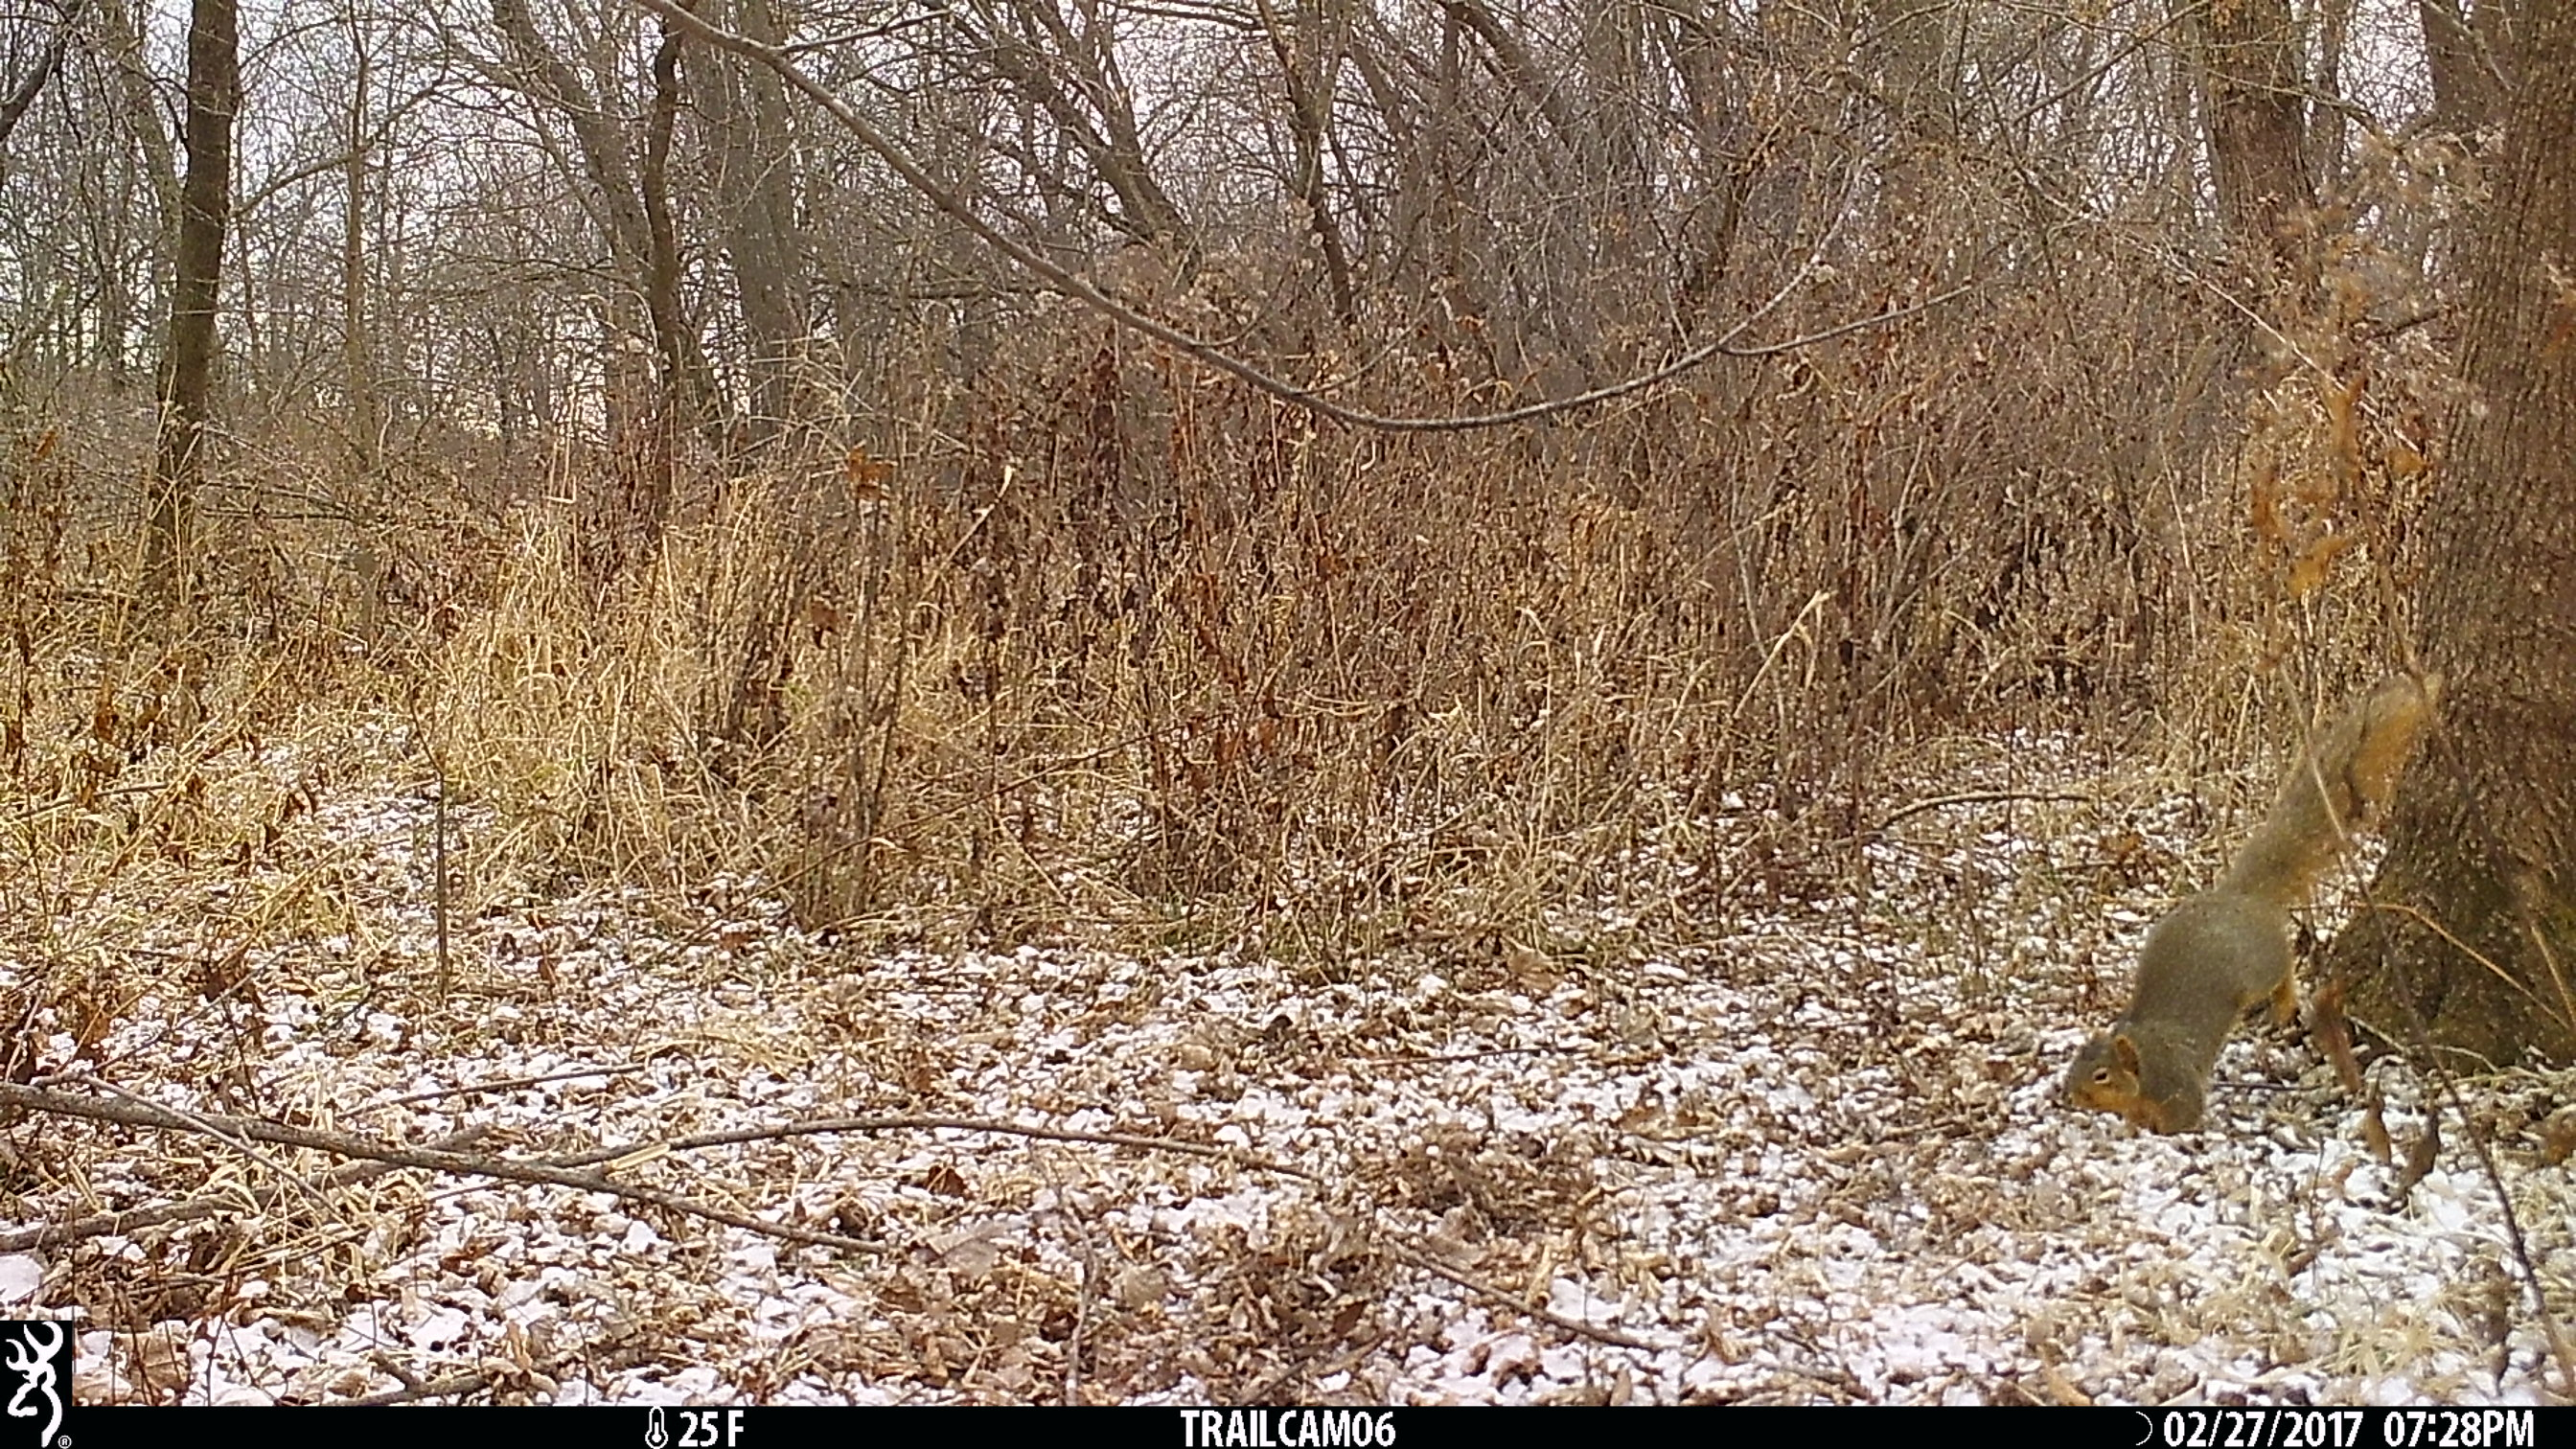Squirrel: (2056, 679, 2429, 1129)
